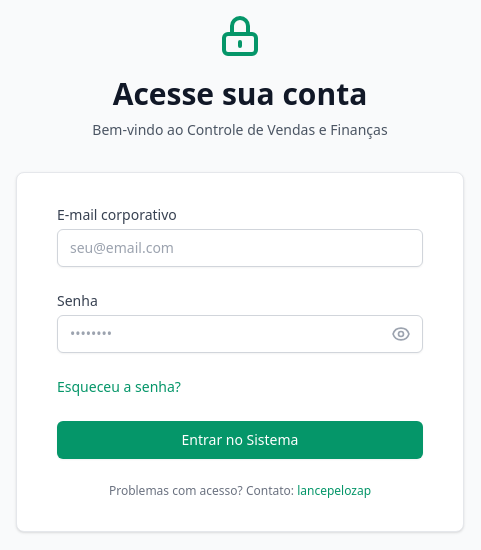
Test: LoginPage › entra em modo 2FA quando require2FA é true
Type "test@lpzteste.app" into the field with placeholder "seu@email.com" at (240, 248), box [57, 229, 423, 267]
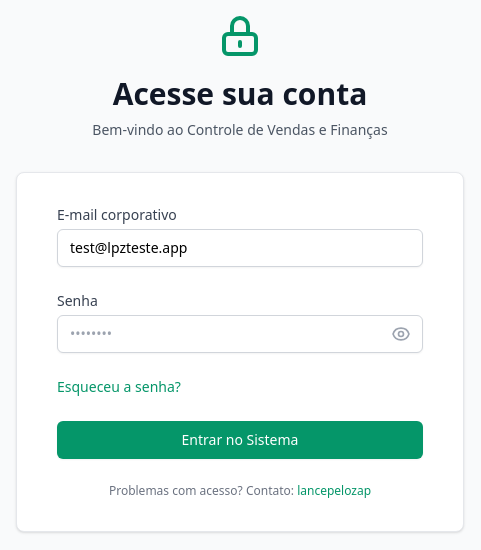
Type "123456" into the password field with placeholder "••••••••" at (240, 334), box [57, 315, 423, 353]
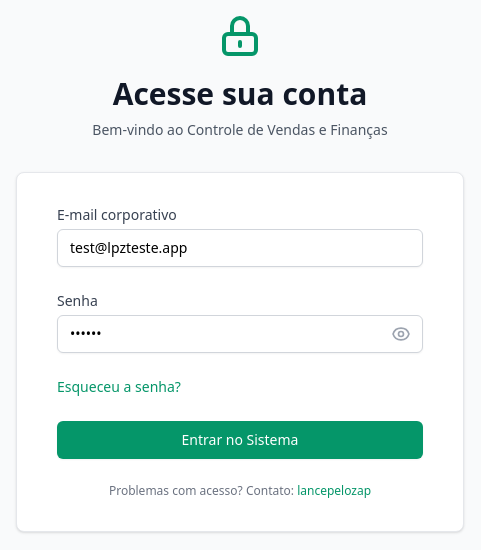
Click the button "Entrar no Sistema" at (240, 440), box [57, 421, 423, 459]
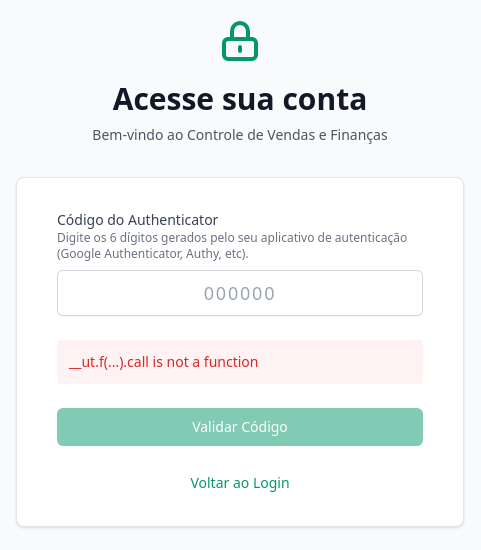
expect the text "Código do Authenticator" is shown: met, box [57, 210, 218, 229]
expect the button "Validar Código" is shown: met, box [57, 408, 423, 446]
